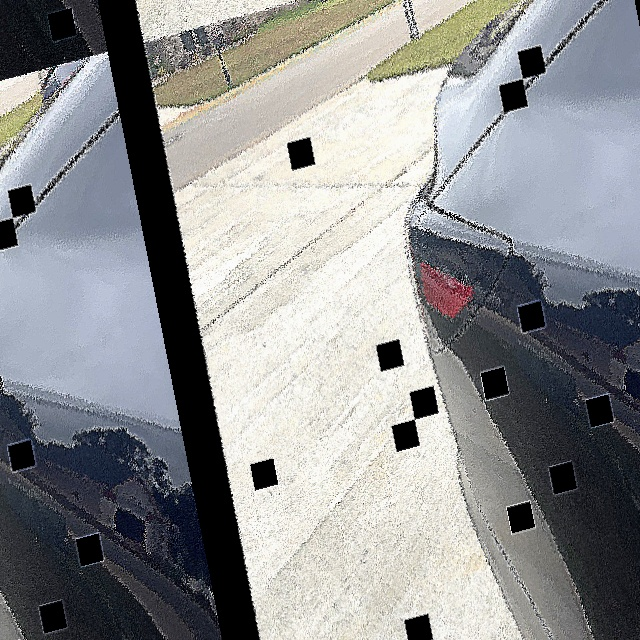reflector: (418, 248, 477, 325)
